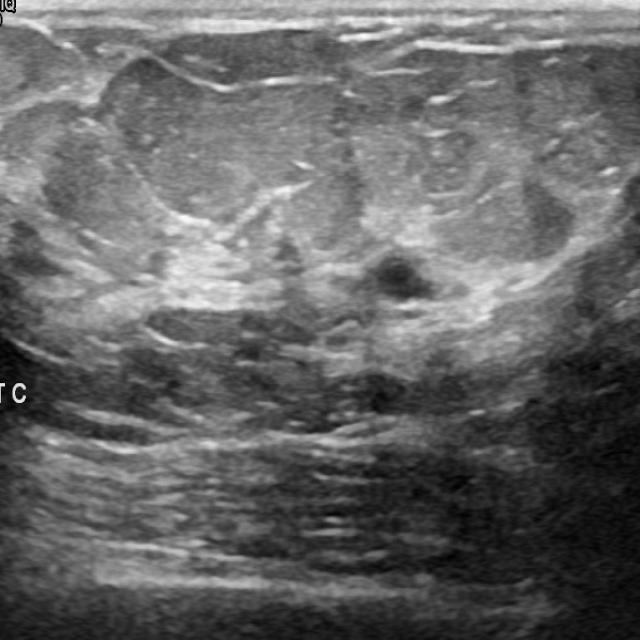Normal: (30, 23, 611, 613)
